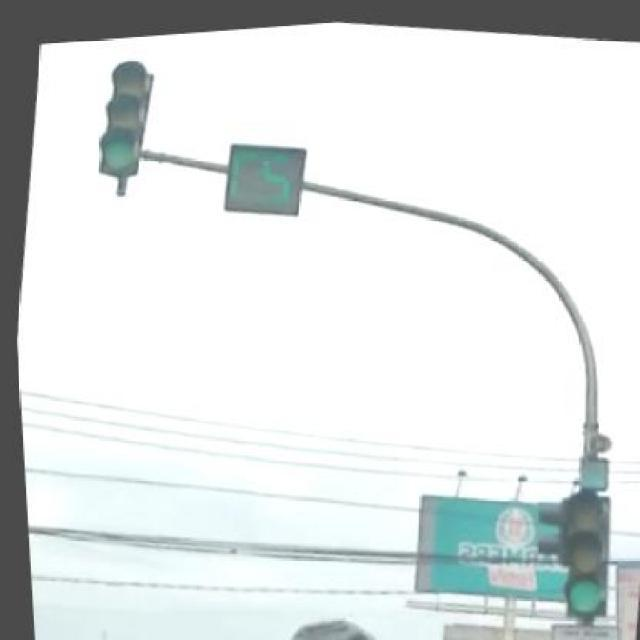green_light: (98, 59, 150, 192), (560, 488, 607, 618)
